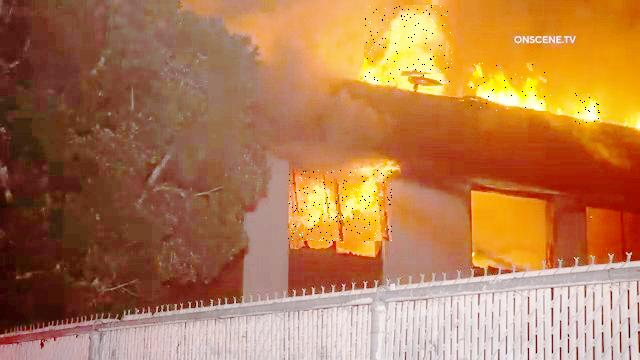fire: (288, 170, 392, 244), (365, 6, 453, 83), (464, 64, 552, 114), (575, 93, 600, 124)
